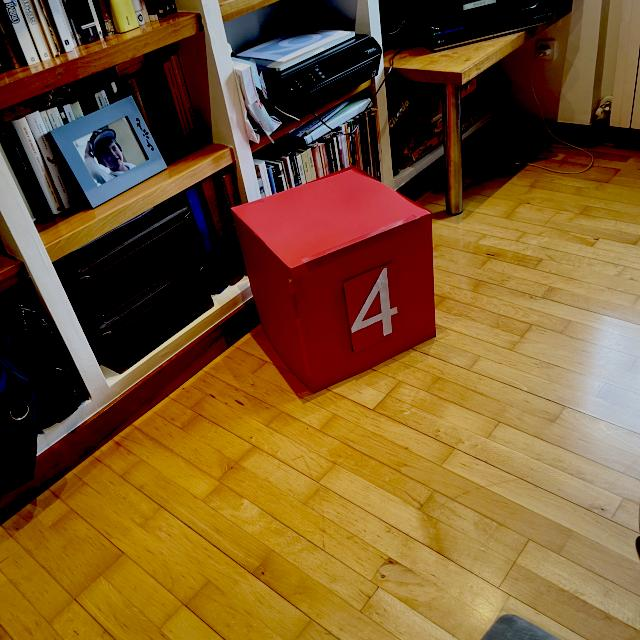box: (226, 164, 440, 394)
